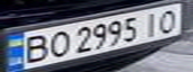2: (72, 24, 93, 55)
5: (121, 14, 145, 43)
9: (90, 20, 112, 51), (106, 18, 127, 46)
B: (15, 33, 54, 65)
I: (139, 9, 163, 37)
O: (42, 28, 72, 58), (151, 7, 184, 34)
